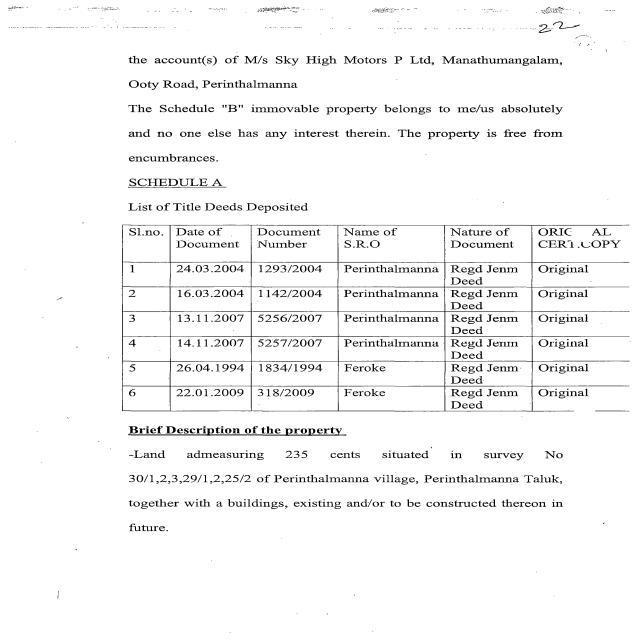page-number: (471, 0, 640, 55)
